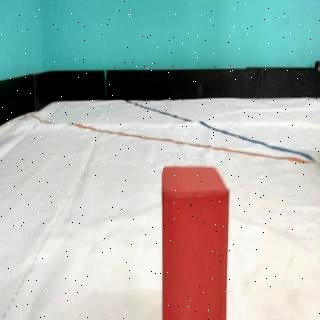redbox: (164, 170, 224, 320)
